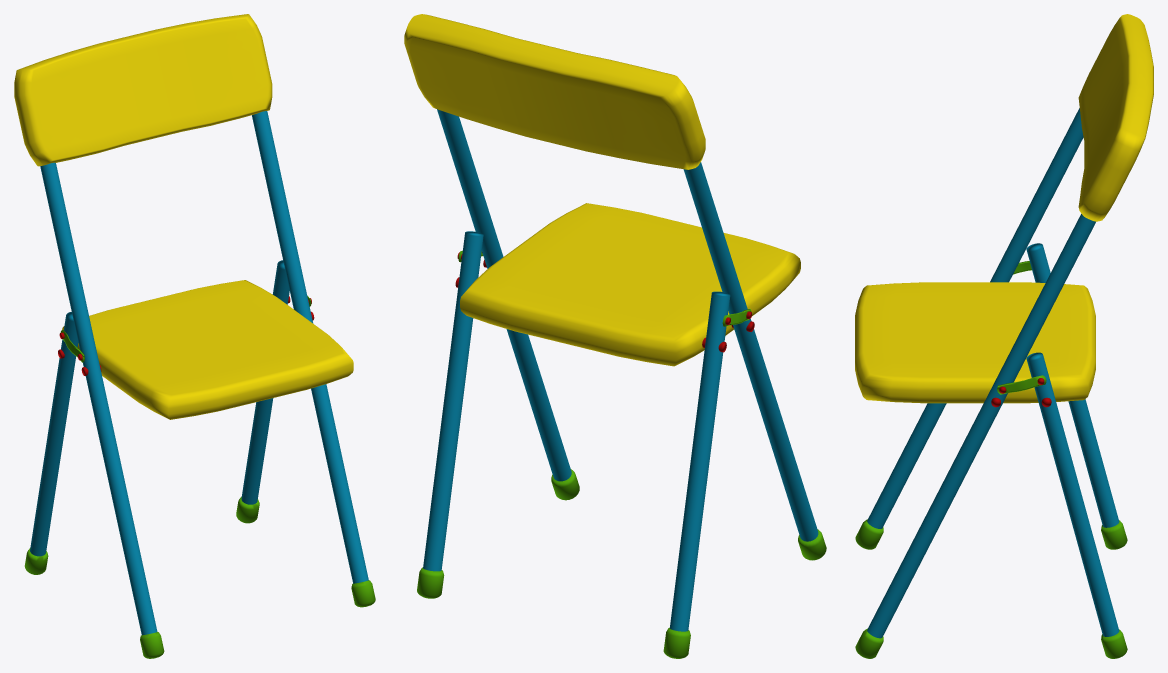
The model's file is Chair_Low.fbx.
3 renders of one model, left to right at view 1: azimuth 30°, elevation 25°; view 2: azimuth 150°, elevation 25°; view 3: azimuth 270°, elevation 25°, orthographic. The views are drawn at different scales.
Visible parts, largest first — view 1: BackSeat, BaseSeat, BackrestSide, SeatSide, FootF, FootB; view 2: BaseSeat, BackSeat, BackrestSide, SeatSide, FootB, FootF; view 3: BaseSeat, BackrestSide, BackSeat, SeatSide, FootF, FootB, Hinge.
Boxes of the visible parts, x1,y1,x2,y2 form: BackSeat: (14, 14, 272, 166); BaseSeat: (62, 280, 353, 419); BackrestSide: (40, 111, 368, 635); SeatSide: (30, 260, 289, 556); FootF: (140, 580, 375, 658); FootB: (24, 497, 259, 574); BaseSeat: (460, 203, 800, 366); BackSeat: (404, 14, 705, 169); BackrestSide: (437, 109, 818, 541); SeatSide: (423, 231, 730, 631); FootB: (417, 567, 690, 658); FootF: (551, 469, 826, 560); BaseSeat: (855, 282, 1095, 403); BackrestSide: (867, 108, 1095, 638); BackSeat: (1078, 14, 1153, 221); SeatSide: (1026, 243, 1119, 636); FootF: (855, 519, 883, 658); FootB: (1101, 520, 1127, 658); Hinge: (997, 261, 1046, 394).
Bounding box in the file's own units: 0.4997 × 0.9902 × 0.5028.
